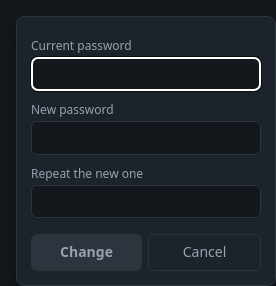
changing your own password › says it worked, and what it did to every other browser
(page scrolled)
In the password field labelled "Current password": (146, 74) [31,57,261,91], type "the password in use"
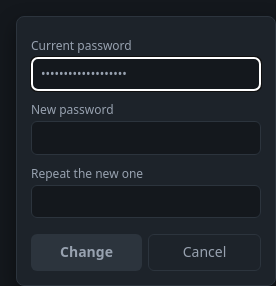
In the password field labelled "New password": (146, 138) [31,121,261,155], type "a different password entirely"
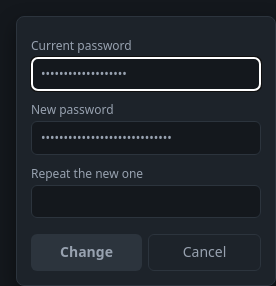
In the password field labelled "Repeat the new one": (146, 202) [31,185,261,218], type "a different password entirely"
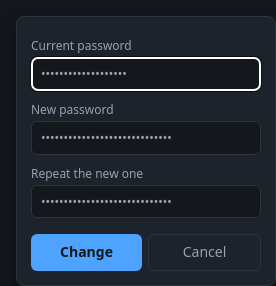
Click the button "Change": (86, 252) [31,234,142,271]
(page scrolled)
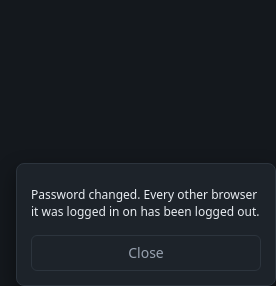
Expected: the text "logged out" is shown, [31,186,260,220]
